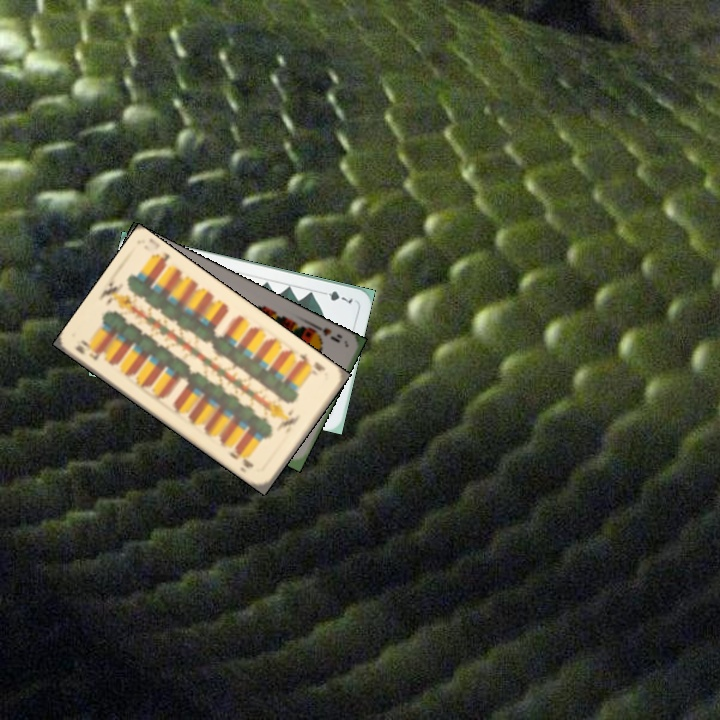E10: (293, 349, 328, 378), (71, 336, 104, 363)
G7: (316, 287, 355, 306)
S9: (308, 320, 343, 345)
